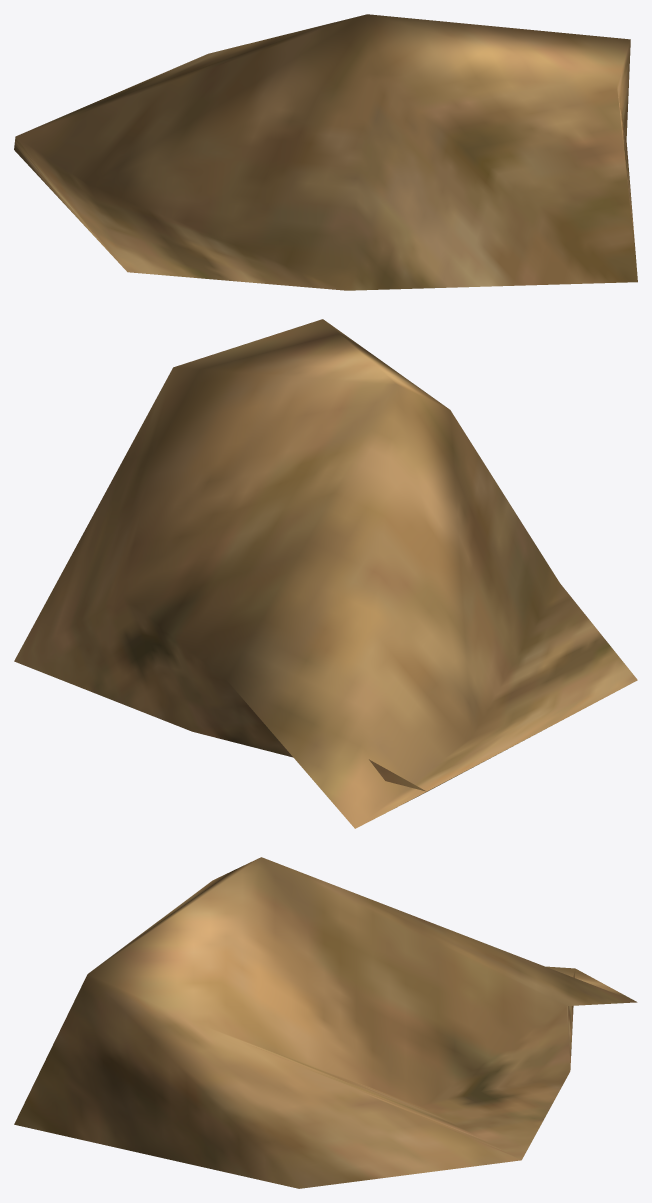
Rendered from M5_Rock01.glb.
3 views of the same model, one above another, from view 1: azimuth 30°, elevation 25°; view 2: azimuth 150°, elevation 25°; view 3: azimuth 270°, elevation 25° (orthographic). The views are drawn at different scales.
Visible parts, largest first — view 1: M5_ROCK01; view 2: M5_ROCK01; view 3: M5_ROCK01.
Part boxes in pixels (left/top/right/bottom): M5_ROCK01: left=14, top=14, right=637, bottom=290; M5_ROCK01: left=14, top=319, right=637, bottom=828; M5_ROCK01: left=14, top=857, right=637, bottom=1188.
Size of the model in its own units: 0.57 by 0.243 by 0.628.
1 material, 1 textured.
